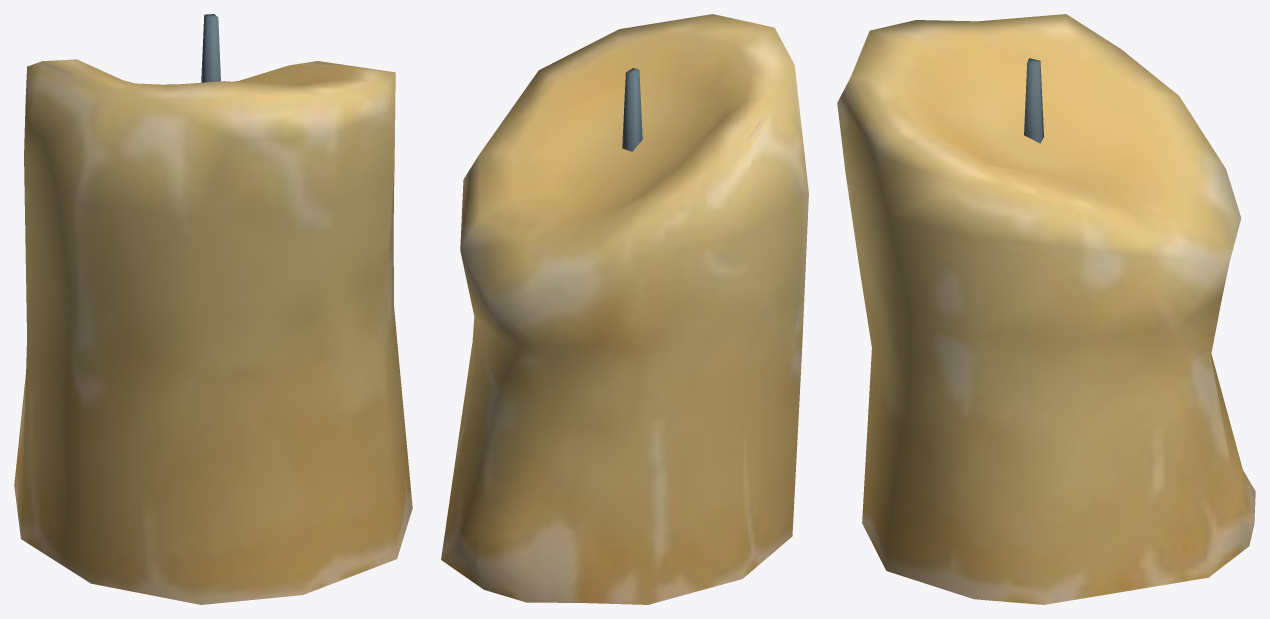
Rendered from Candle_1.gltf.
The picture shows the model from 3 angles, left to right: view 1: azimuth 30°, elevation 25°; view 2: azimuth 150°, elevation 25°; view 3: azimuth 270°, elevation 25°; orthographic projection. The views are drawn at different scales.
Visible parts, largest first — view 1: Candle_1; view 2: Candle_1; view 3: Candle_1.
Boxes of the visible parts, x1,y1,x2,y2 form: Candle_1: (14,14,412,604); Candle_1: (441,14,808,604); Candle_1: (837,14,1255,604).
Size of the model in its own units: 0.0939 by 0.132 by 0.1079.
1 material, 1 textured.
